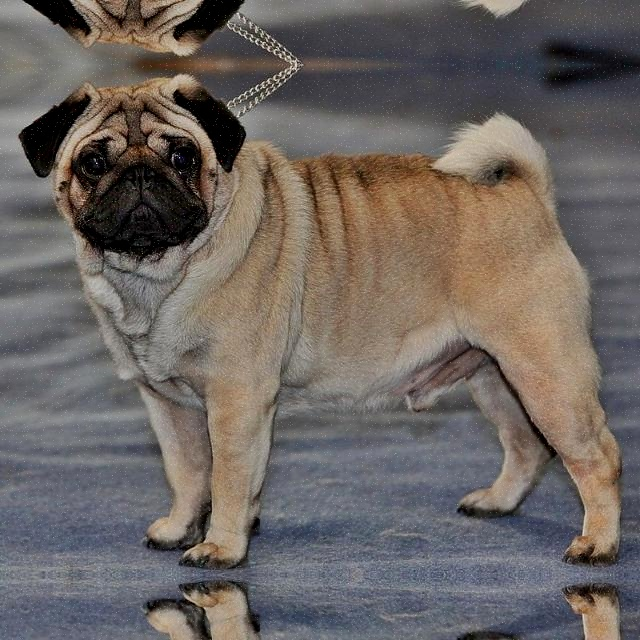dog: (20, 66, 640, 572), (20, 577, 640, 640), (20, 0, 640, 61)
